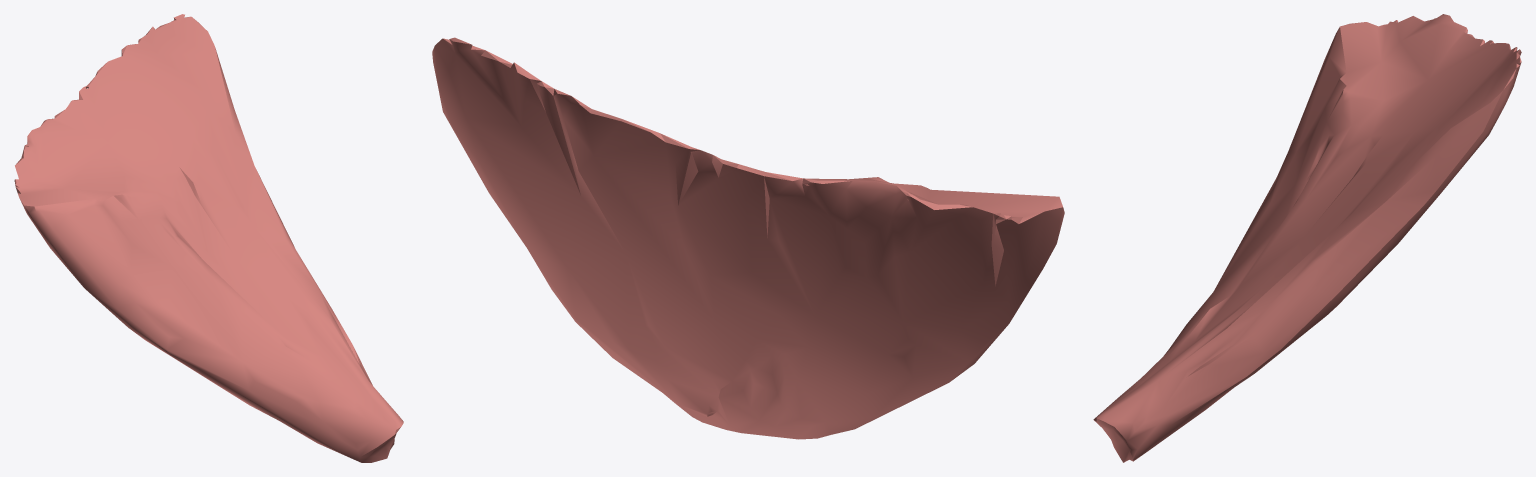
The model's file is fma32532_fj1590.glb.
The picture shows the model from 3 angles, left to right: view 1: azimuth 30°, elevation 25°; view 2: azimuth 150°, elevation 25°; view 3: azimuth 270°, elevation 25°; orthographic projection. The views are drawn at different scales.
Visible parts, largest first — view 1: FMA32532_FJ1590; view 2: FMA32532_FJ1590; view 3: FMA32532_FJ1590.
Part boxes in pixels (x1,y1,x2,y2): FMA32532_FJ1590: (14,14,403,462); FMA32532_FJ1590: (432,37,1064,439); FMA32532_FJ1590: (1093,14,1521,462).
Size of the model in its own units: 0.0239 by 0.0269 by 0.0272.
